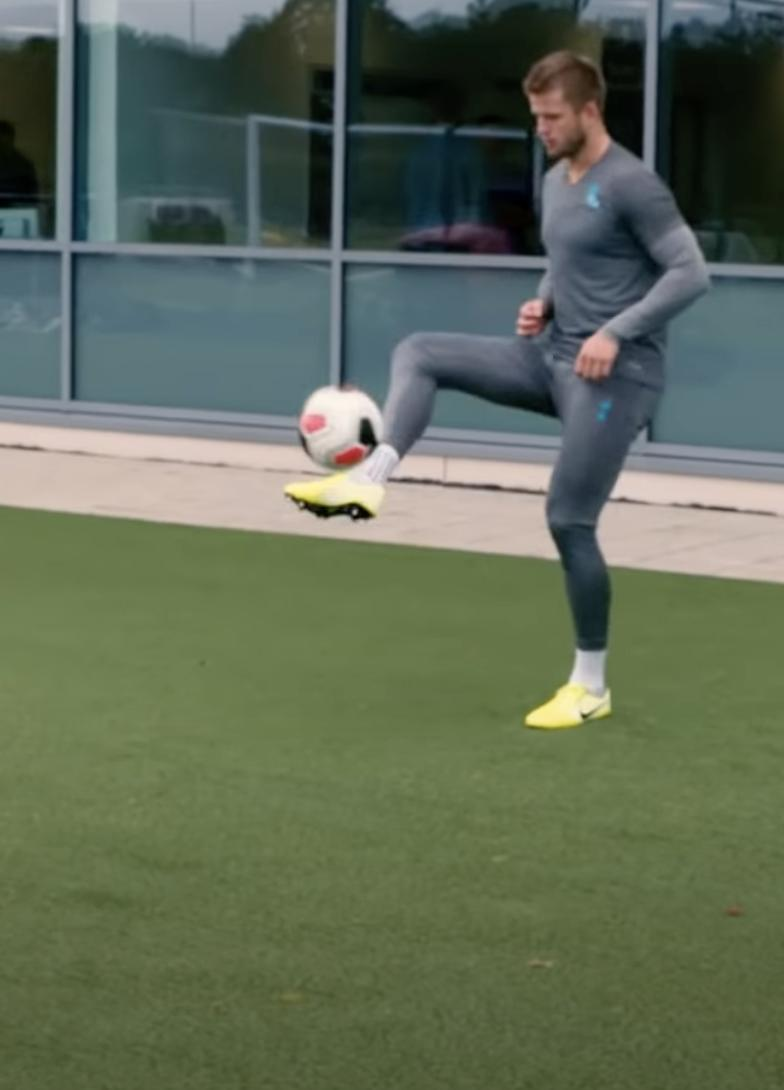ball: (301, 382, 379, 471)
foot: (285, 470, 388, 527), (521, 675, 613, 735)
person: (285, 50, 711, 728)
